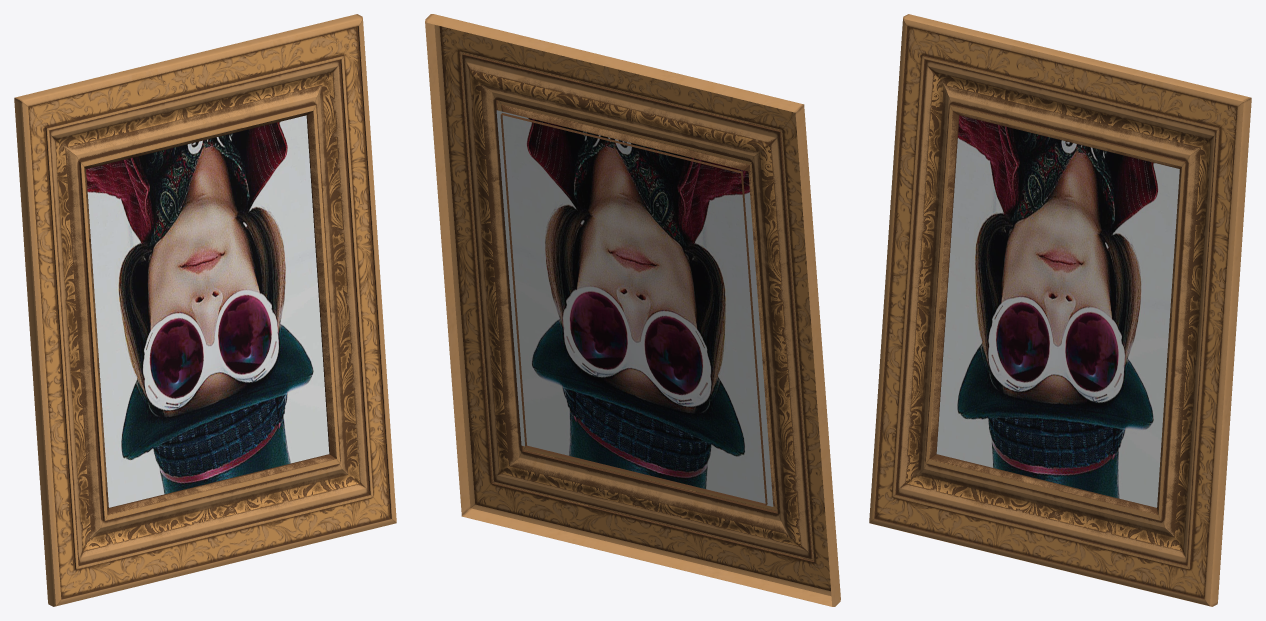
Rendered from pictureFrame.gltf.
3 renders of one model, left to right at view 1: azimuth 30°, elevation 25°; view 2: azimuth 150°, elevation 25°; view 3: azimuth 330°, elevation 25°, orthographic. The views are drawn at different scales.
Parts seen in each view (by area): view 1: frame, painting; view 2: frame, painting; view 3: frame, painting.
Boxes of the visible parts, x1,y1,x2,y2 form: frame: (14,14,396,606); painting: (86,115,329,507); frame: (425,14,840,606); painting: (496,110,773,506); frame: (869,14,1251,606); painting: (936,115,1179,507).
Bounding box in the file's own units: 0.2517 × 0.3386 × 0.0536.
Materials: 2 (2 with a texture image).
